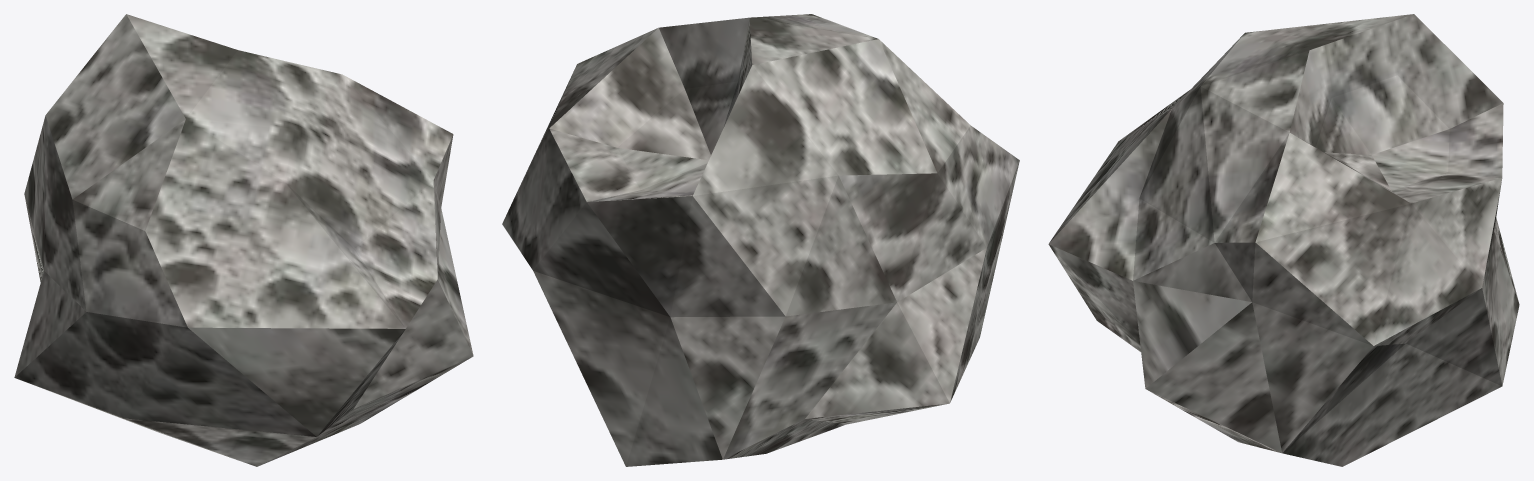
The model's file is asteroid.obj.
3 renders of one model, left to right at view 1: azimuth 30°, elevation 25°; view 2: azimuth 150°, elevation 25°; view 3: azimuth 270°, elevation 25°, orthographic. The views are drawn at different scales.
Parts seen in each view (by area): view 1: Icosphere; view 2: Icosphere; view 3: Icosphere.
Part boxes in pixels (left/top/right/bottom): Icosphere: left=14, top=14, right=473, bottom=466; Icosphere: left=502, top=14, right=1019, bottom=466; Icosphere: left=1048, top=14, right=1519, bottom=466.
Bounding box in the file's own units: 20.89 × 20.23 × 22.29.
Materials: 1 (1 with a texture image).
